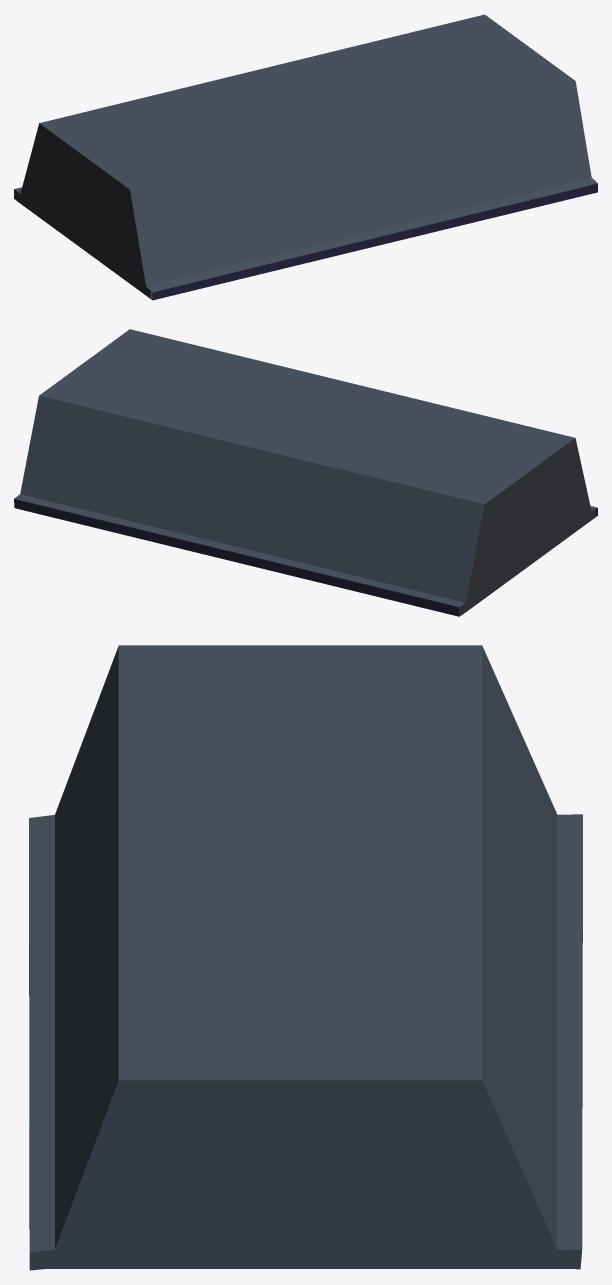
The model's file is Roof_DOUBLE_MID.fbx.
3 views of the same model, one above another, from view 1: azimuth 30°, elevation 25°; view 2: azimuth 150°, elevation 25°; view 3: azimuth 270°, elevation 25° (orthographic). The views are drawn at different scales.
Parts seen in each view (by area): view 1: Cube; view 2: Cube; view 3: Cube.
Boxes of the visible parts, left/top/right/bottom form: Cube: left=14, top=14, right=597, bottom=300; Cube: left=14, top=329, right=597, bottom=616; Cube: left=29, top=645, right=582, bottom=1270.
Size of the model in its own units: 990 by 202 by 533.
